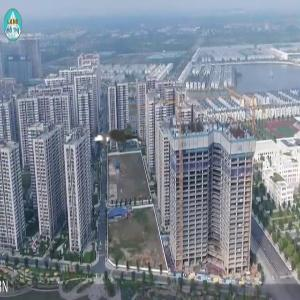drone: (4, 28, 216, 240)
